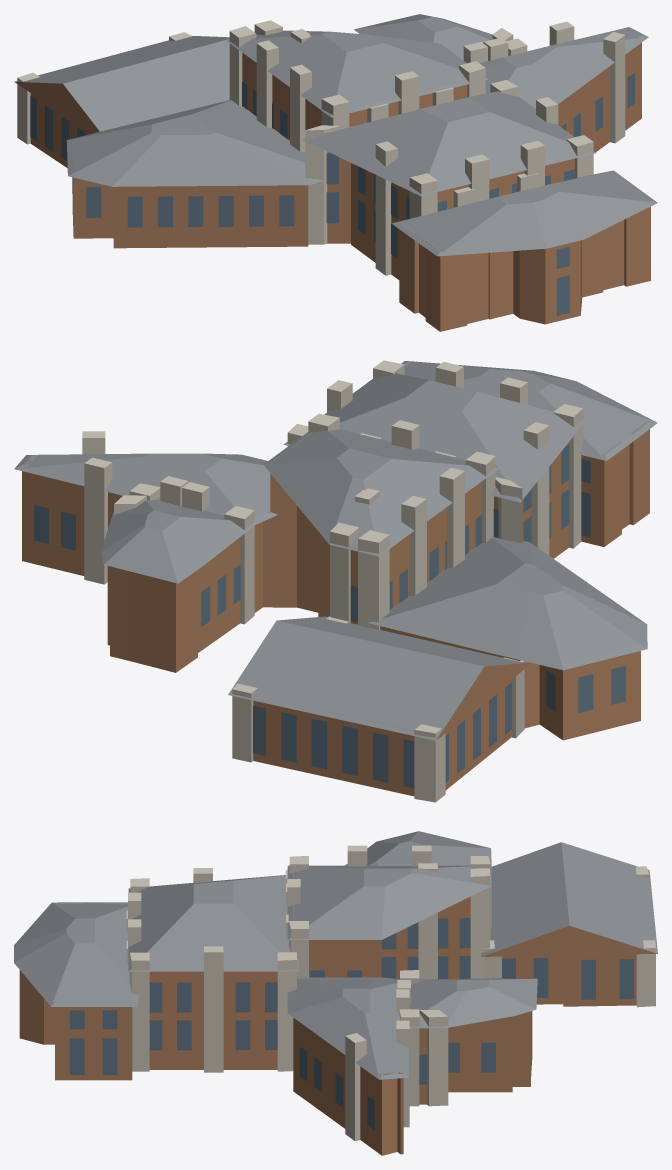
Rendered from yosemite-ahwahnee.glb.
The picture shows the model from 3 angles, top to bottom: view 1: azimuth 30°, elevation 25°; view 2: azimuth 150°, elevation 25°; view 3: azimuth 270°, elevation 25°; orthographic projection. The views are drawn at different scales.
Visible parts, largest first — view 1: The Ahwahnee; view 2: The Ahwahnee; view 3: The Ahwahnee.
Part boxes in pixels (bbox=[...]): The Ahwahnee: bbox=[14, 14, 657, 331]; The Ahwahnee: bbox=[14, 360, 657, 802]; The Ahwahnee: bbox=[14, 831, 657, 1155].
Bounding box in the file's own units: 103 × 25.76 × 105.
